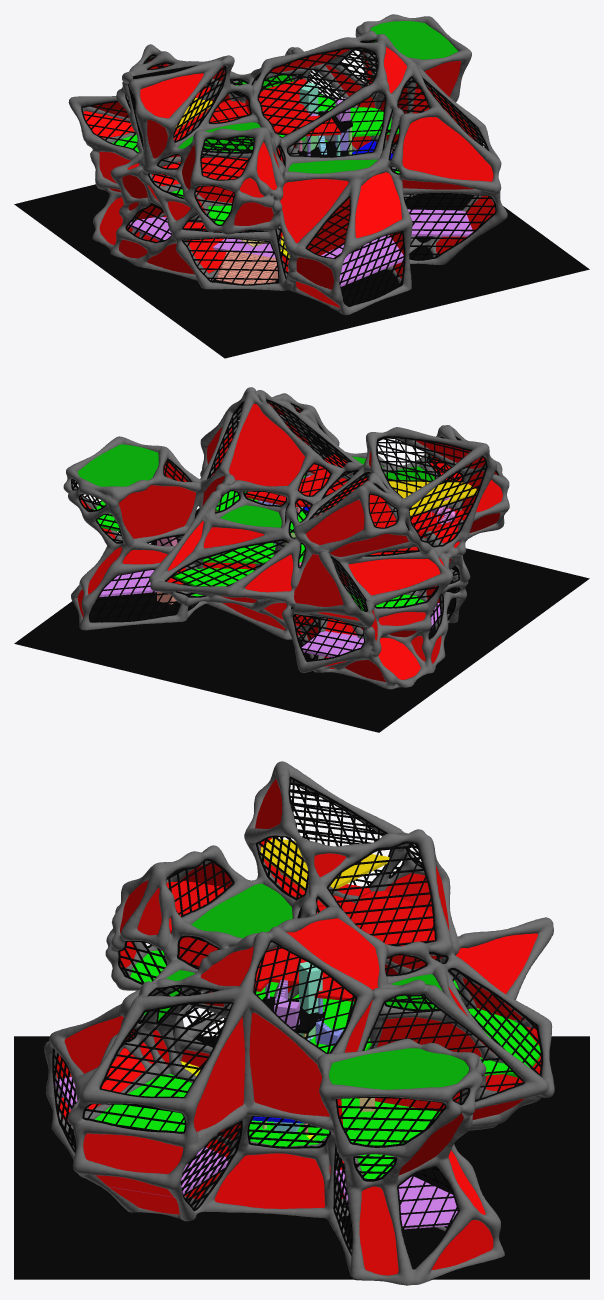
The picture shows the model from 3 angles, top to bottom: view 1: azimuth 30°, elevation 25°; view 2: azimuth 150°, elevation 25°; view 3: azimuth 270°, elevation 25°; orthographic projection. The views are drawn at different scales.
Bounding box in the file's own units: 0.51 × 0.2697 × 0.5.
Materials: 2 (2 with a texture image).
